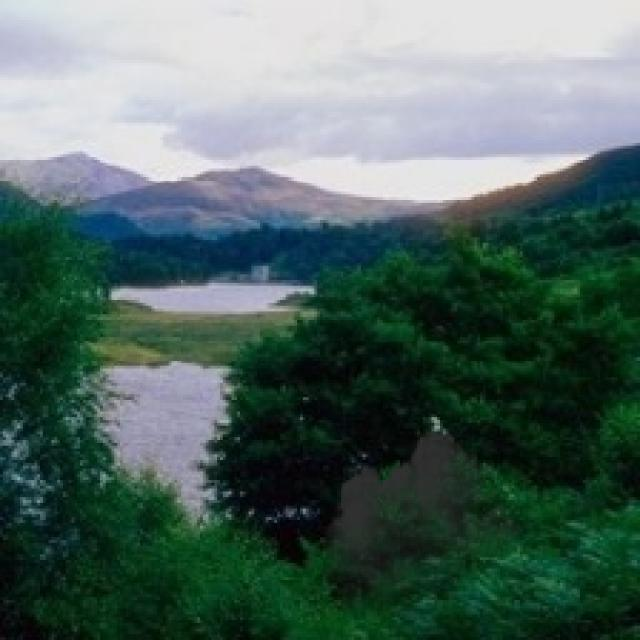smoke: (320, 423, 526, 628)
